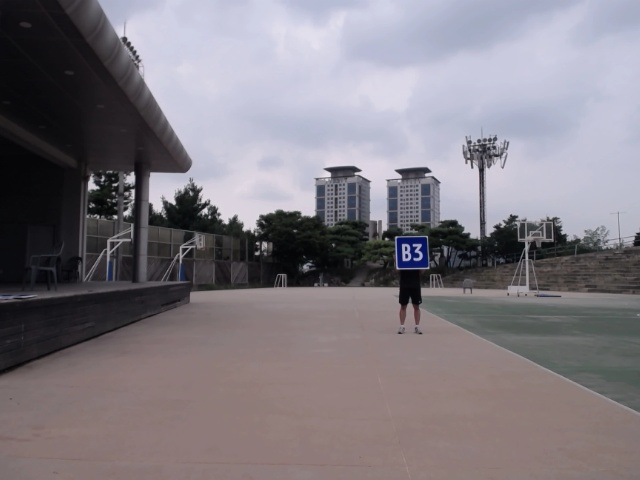delivery_b3: (395, 236, 431, 270)
